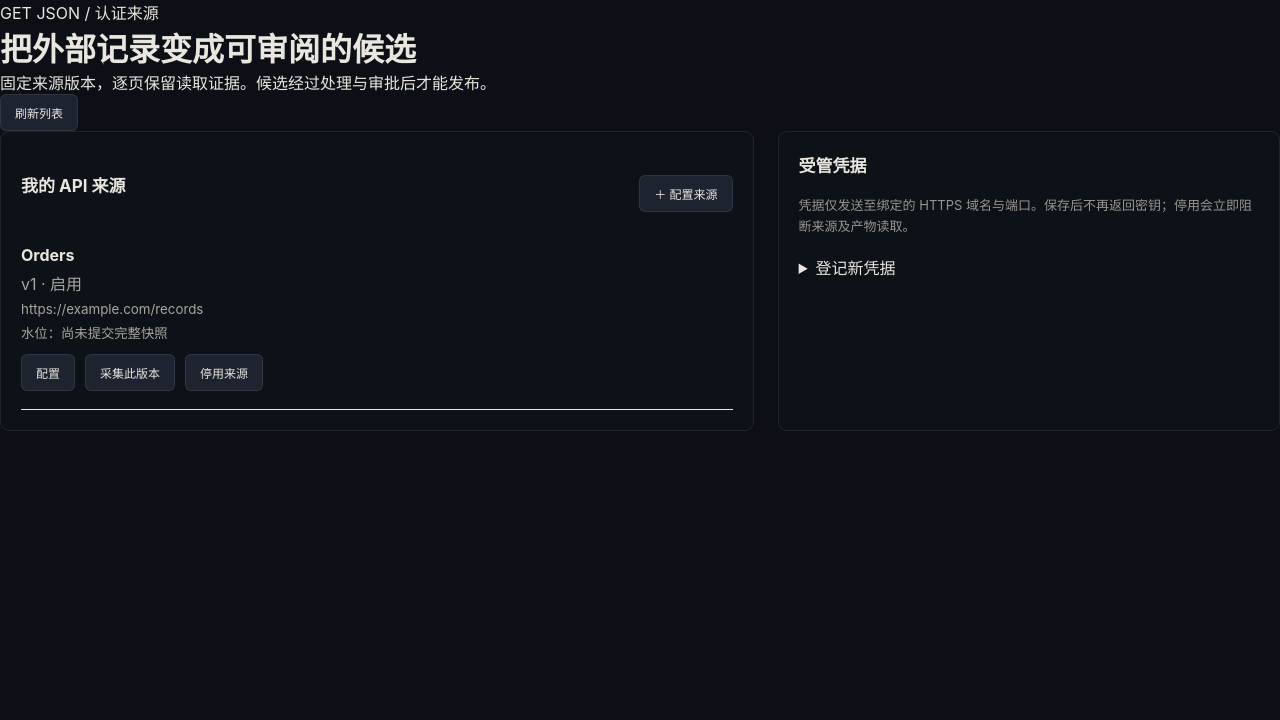
authenticated JSON API source workbench › uses the same operation key after an uncertain start and reports partial truth
Click the button "采集此版本".
click(130, 372)  # box [85, 354, 175, 391]
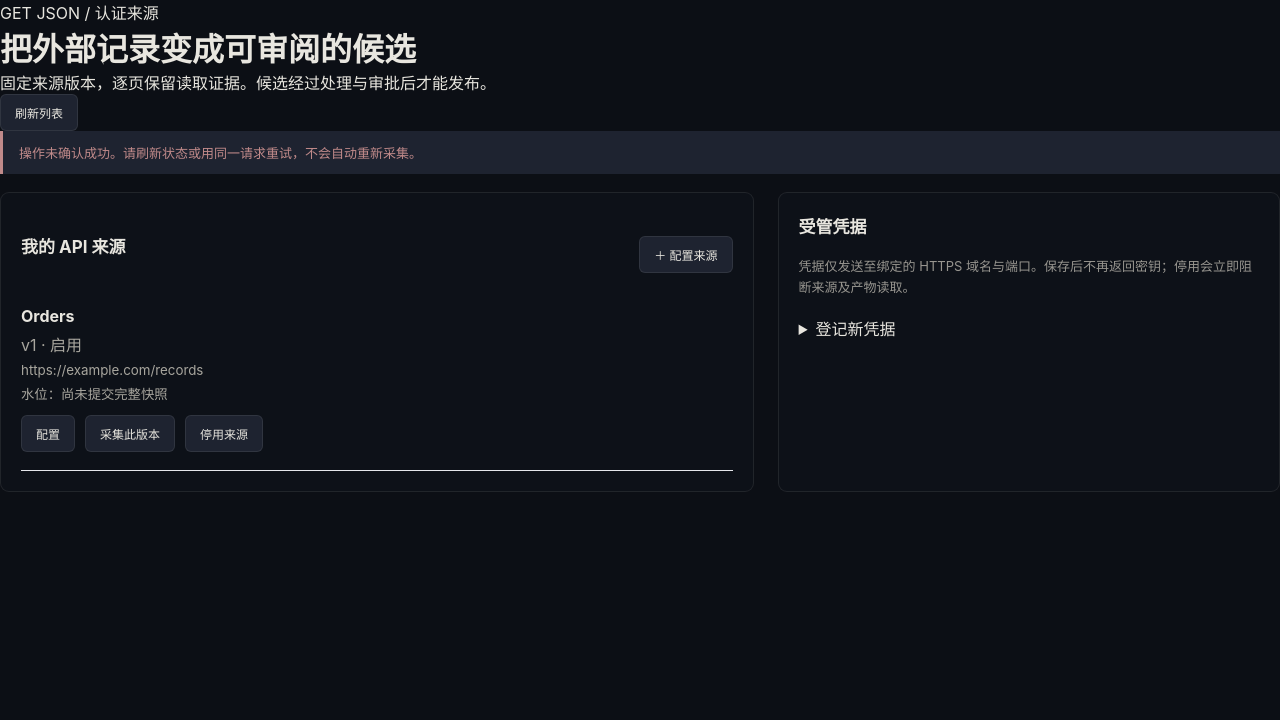
Click the button "采集此版本".
click(130, 434)  # box [85, 415, 175, 452]
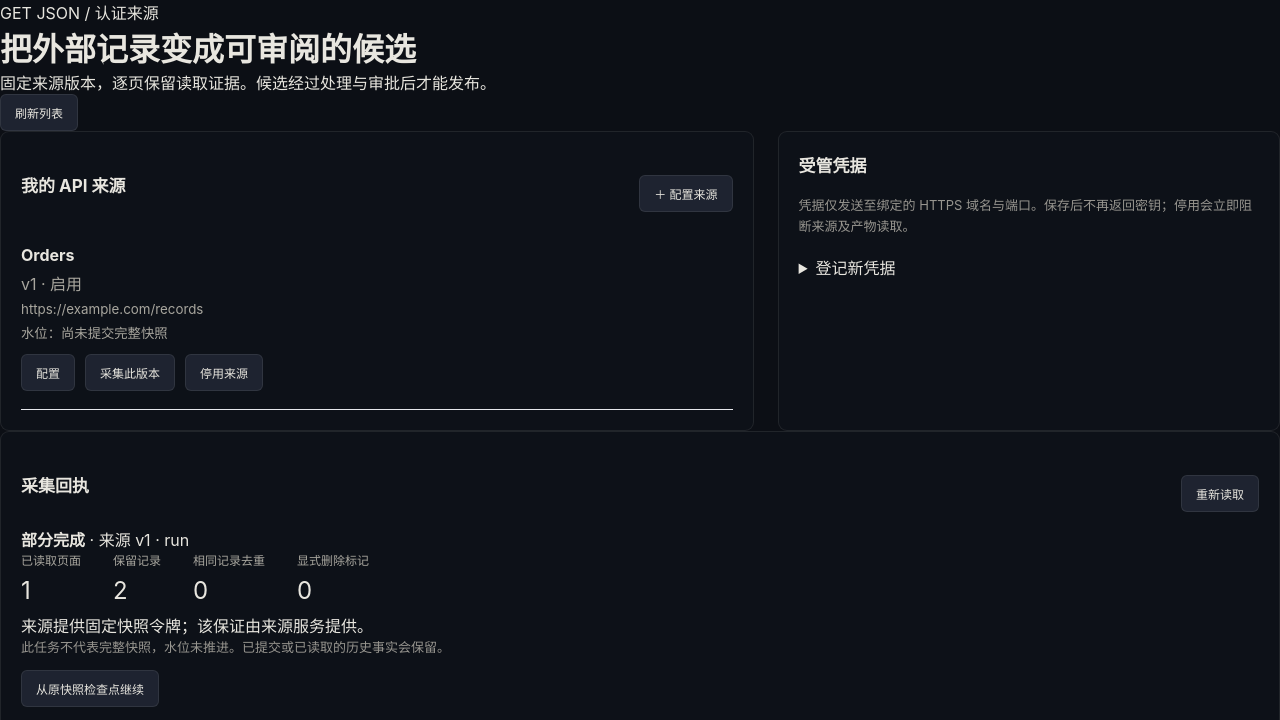
expect the text "部分完成" is shown: met, box [21, 530, 85, 550]
expect the text "水位未推进" is shown: met, box [21, 639, 450, 655]
expect the text "从原快照检查点继续" is shown: met, box [21, 670, 159, 707]
